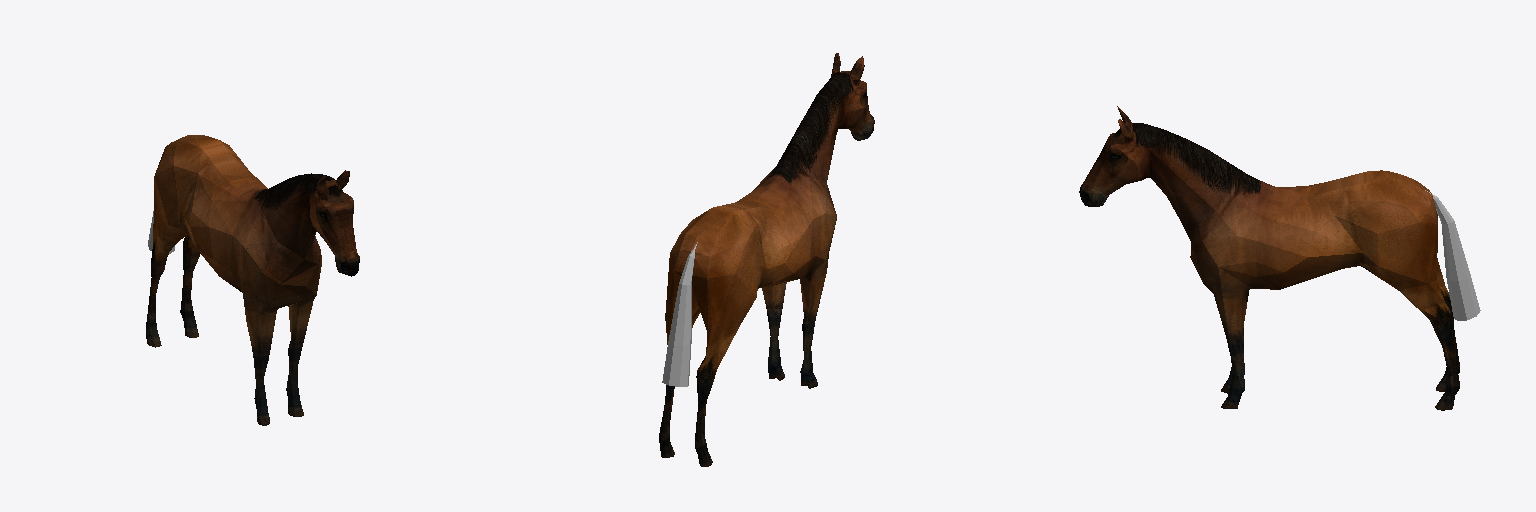
3 renders of one model, left to right at view 1: azimuth 30°, elevation 25°; view 2: azimuth 150°, elevation 25°; view 3: azimuth 270°, elevation 25°, orthographic.
Parts seen in each view (by area): view 1: Object_HORBODY.jpg; view 2: Object_HORBODY.jpg, Object_HORTAIL.jpg; view 3: Object_HORBODY.jpg, Object_HORTAIL.jpg.
Part boxes in pixels (left/top/right/bottom): Object_HORBODY.jpg: left=146, top=135, right=359, bottom=425; Object_HORBODY.jpg: left=659, top=53, right=874, bottom=466; Object_HORTAIL.jpg: left=662, top=242, right=697, bottom=386; Object_HORBODY.jpg: left=1079, top=106, right=1459, bottom=410; Object_HORTAIL.jpg: left=1425, top=190, right=1480, bottom=320.
Bounding box in the file's own units: 0.606 × 1.97 × 2.5.
3 materials, 1 textured.